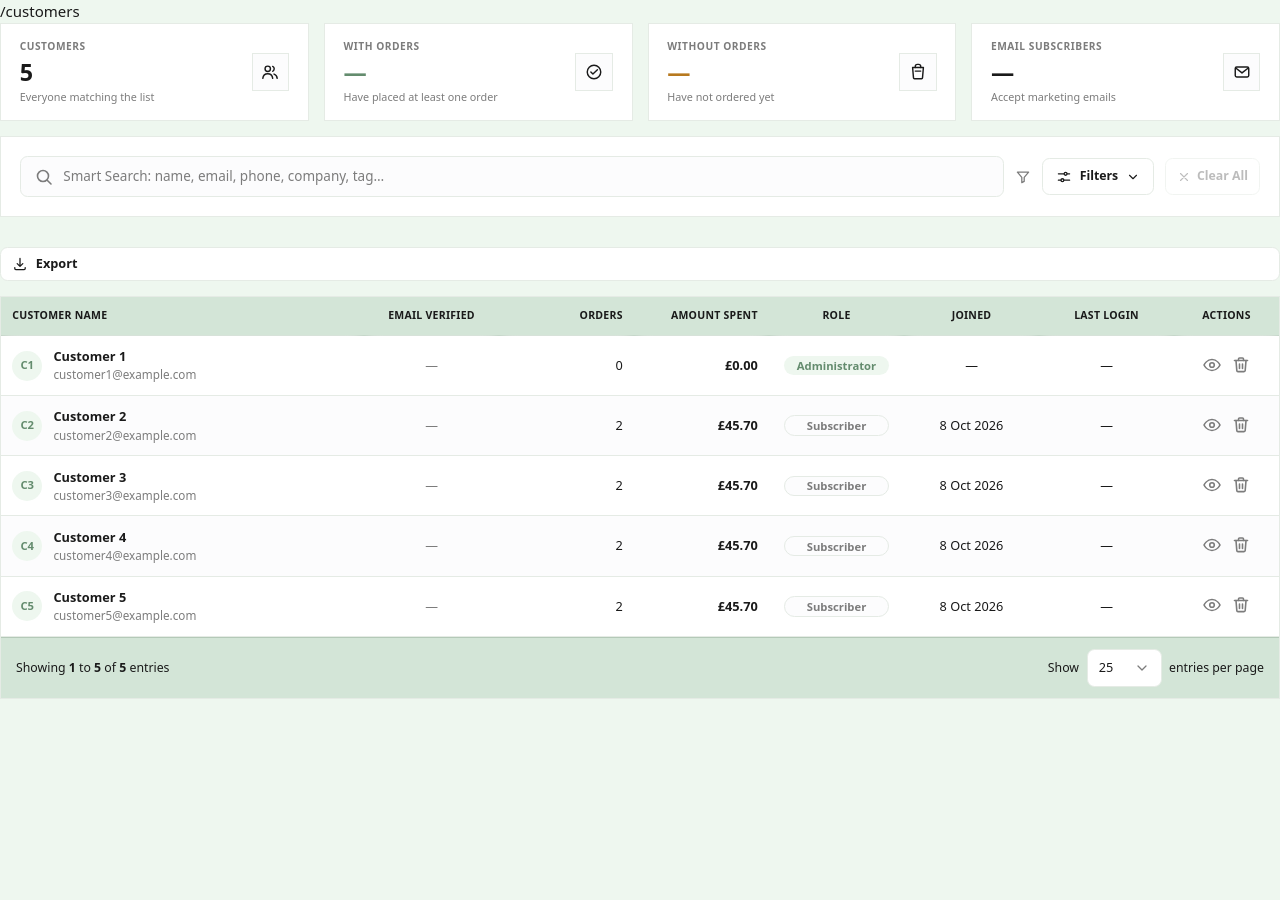
Customer details › opens a customer on the same page from the View button
Check: the text "Customer 2" is shown, box [54,407,126,425]
What coordinates should you click on to do the following:
click the button named "View Customer 2"
I would click on:
 (1212, 425)
Its box is [1199,412,1226,438].
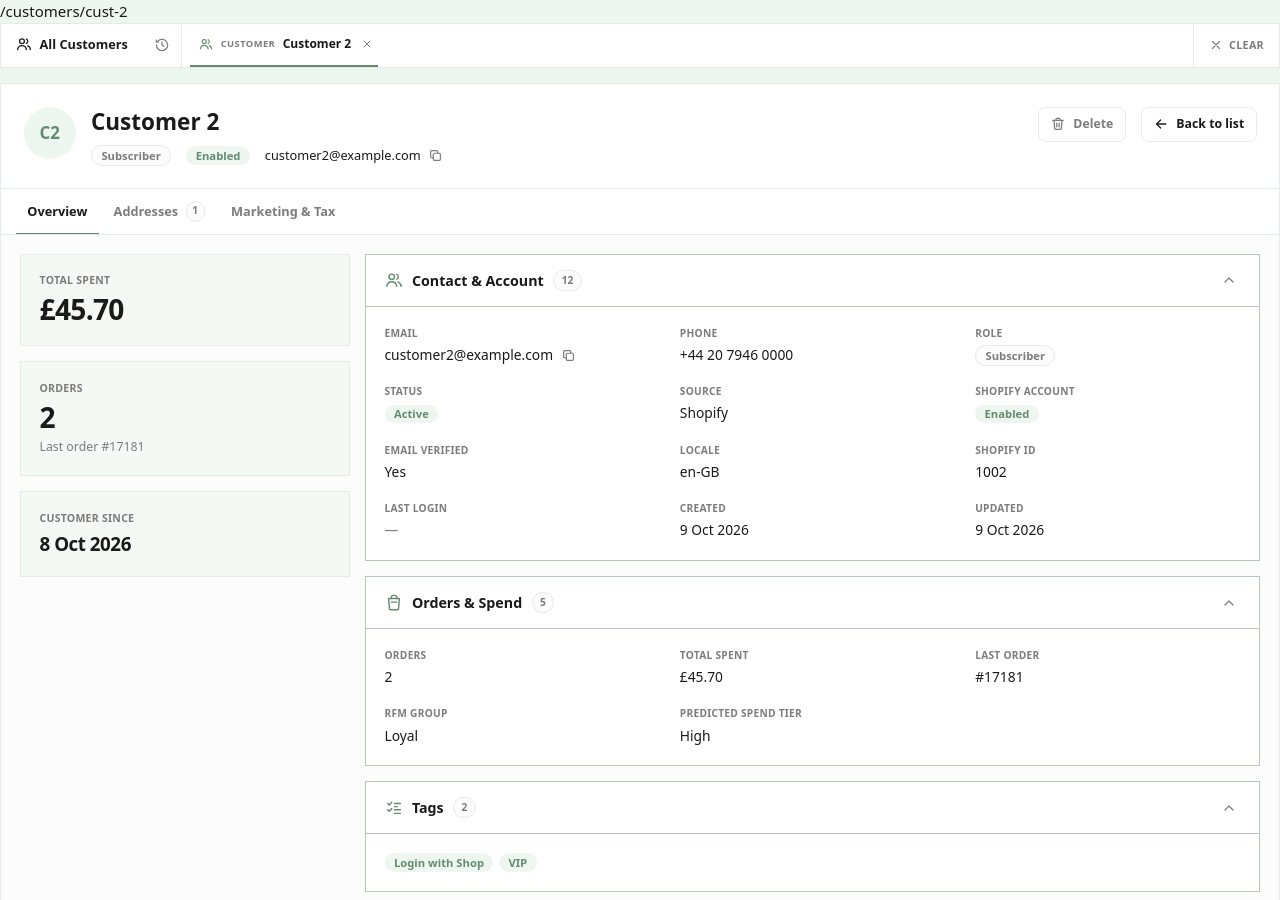
Check: the text with test id "path" reads "/customers/cust-2", box [0,1,128,21]
Check: the heading "Customer 2" is shown, box [91,106,219,137]
